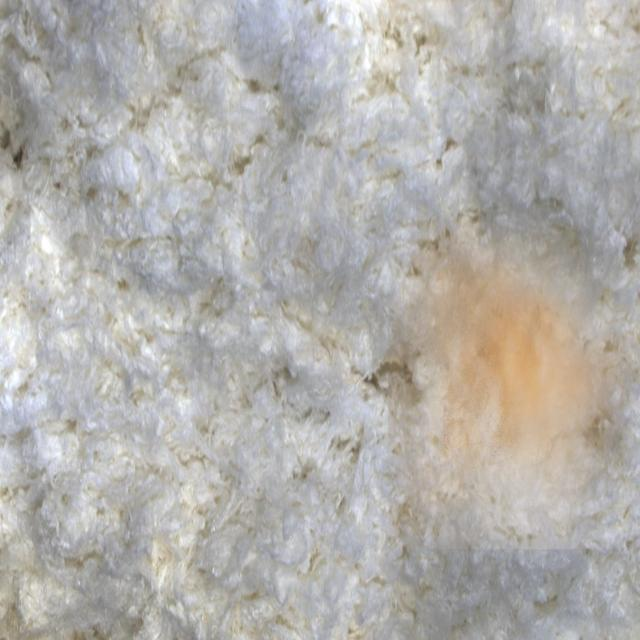dust: (388, 220, 640, 549)
